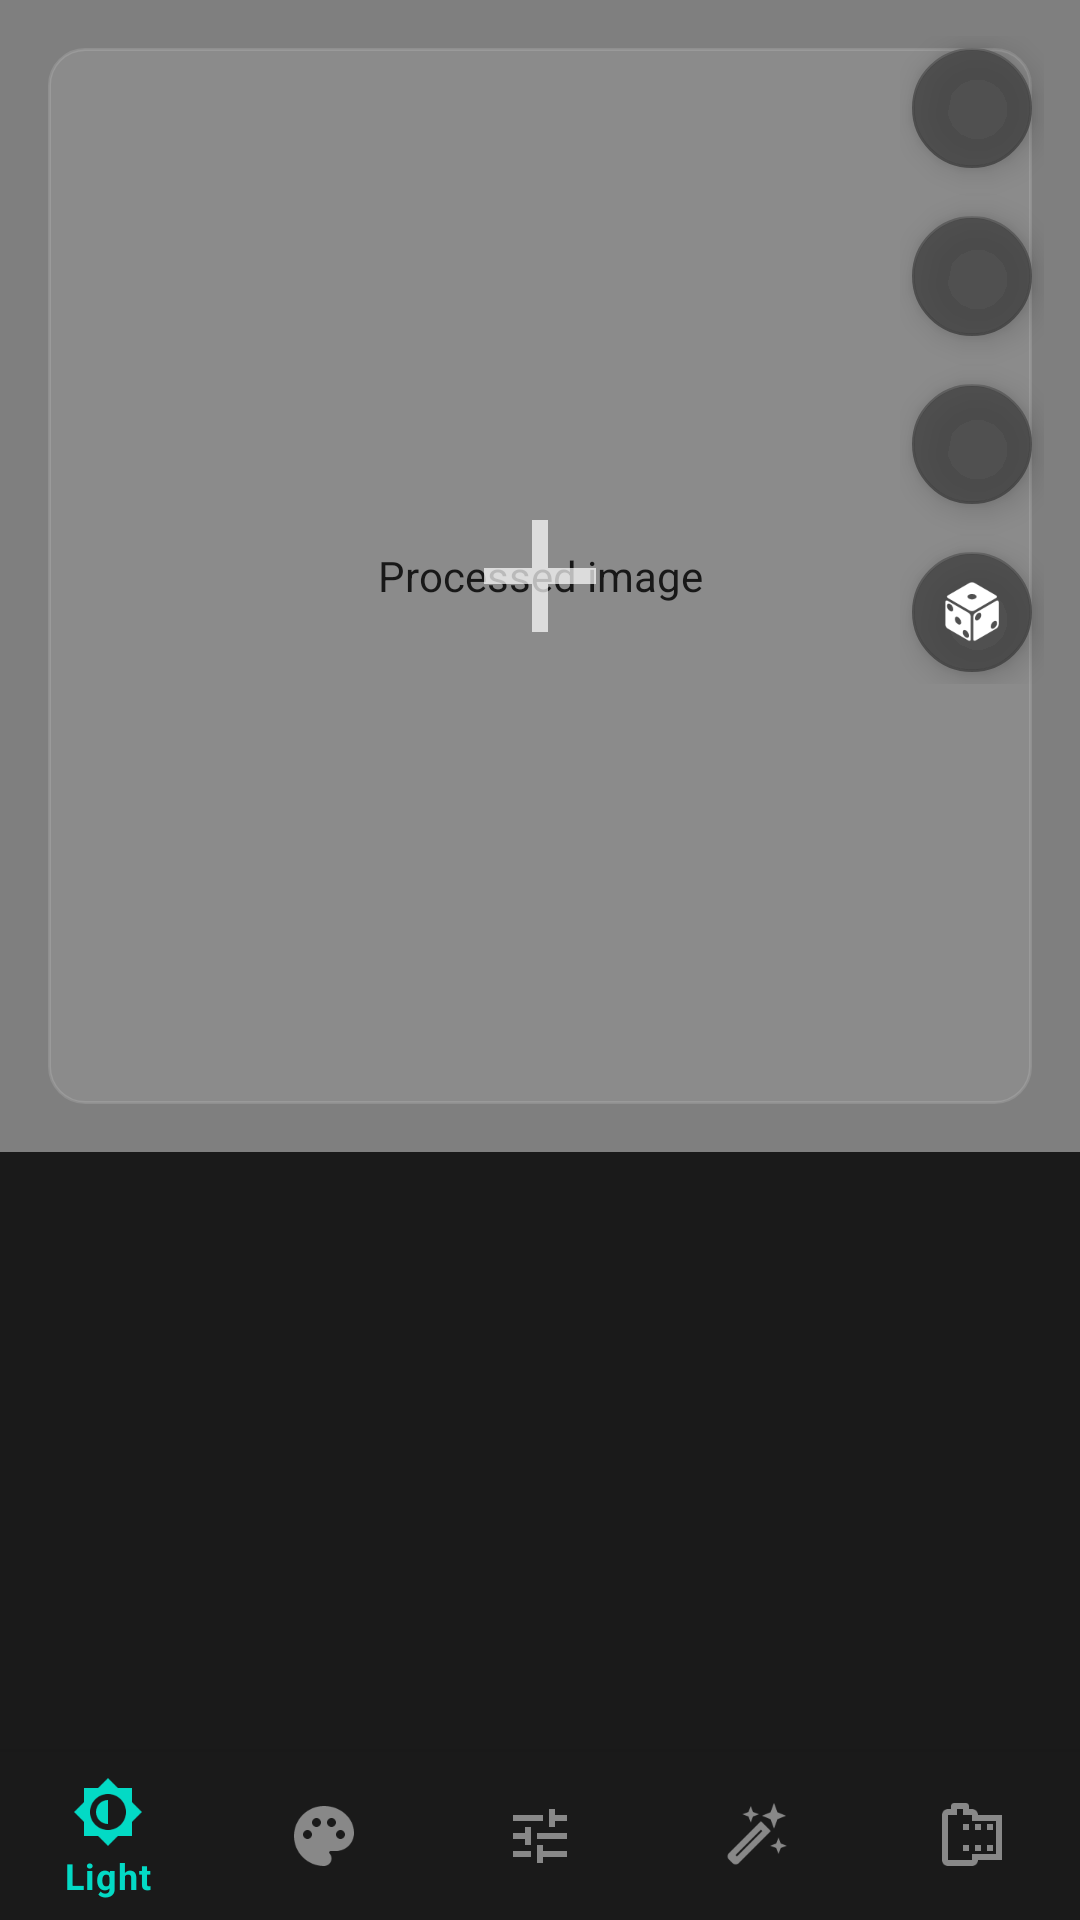

Locate icon controls on the screen. Image size 1080w x 1920h, boxes as (x1, y1, x2, y2).
Randomize: (912, 552, 1034, 672)
